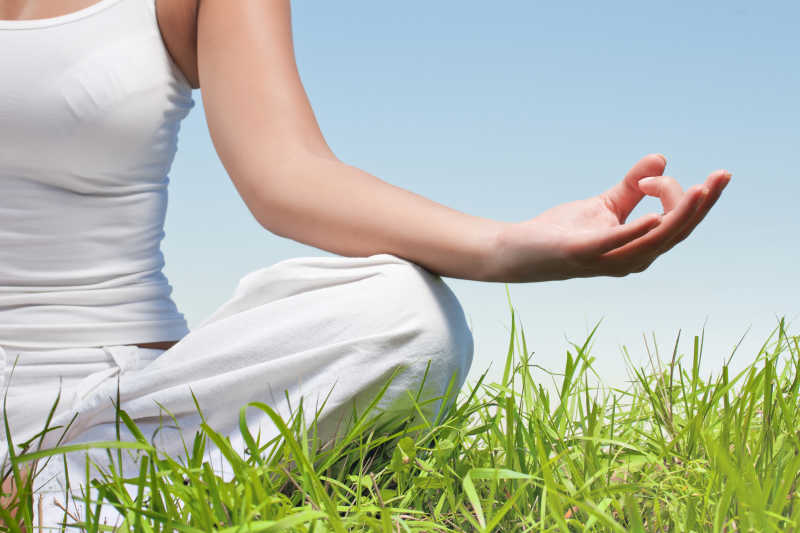no-phone: (461, 136, 777, 304)
